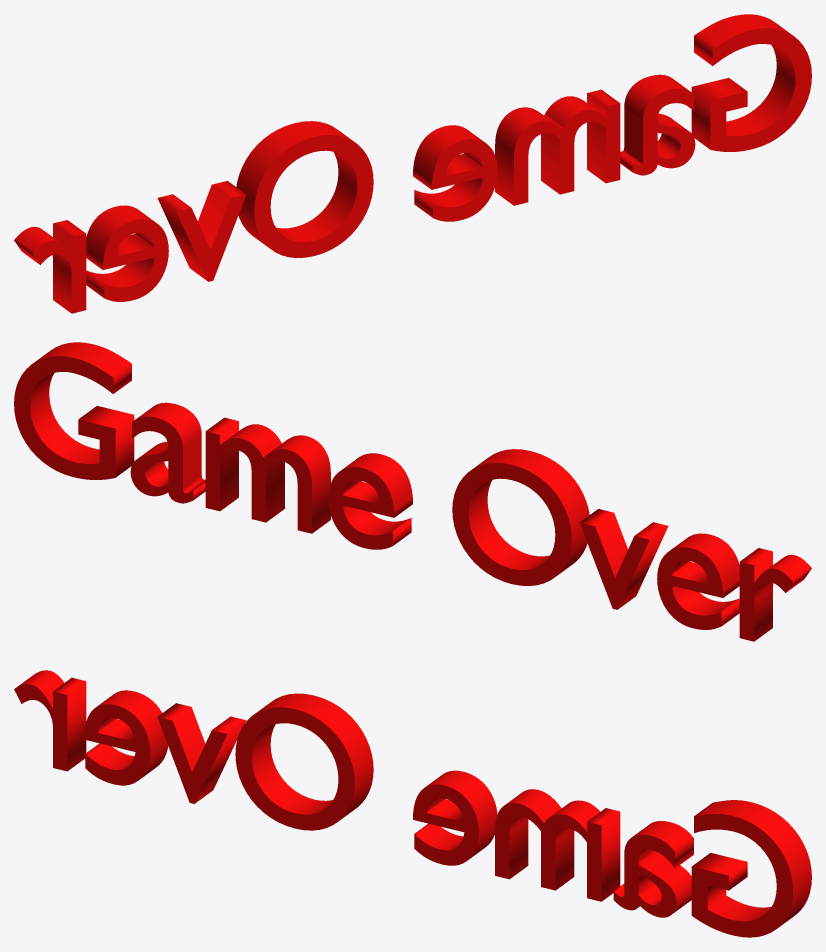
The model's file is GameOver.obj.
The picture shows the model from 3 angles, top to bottom: view 1: azimuth 30°, elevation 25°; view 2: azimuth 150°, elevation 25°; view 3: azimuth 330°, elevation 25°; orthographic projection.
Parts seen in each view (by area): view 1: テキスト; view 2: テキスト; view 3: テキスト.
Part boxes in pixels (x1=…): テキスト: x1=14, y1=14, x2=811, y2=313; テキスト: x1=14, y1=342, x2=811, y2=641; テキスト: x1=14, y1=670, x2=811, y2=937.
Bounding box in the file's own units: 33.47 × 4.9 × 1.4.
